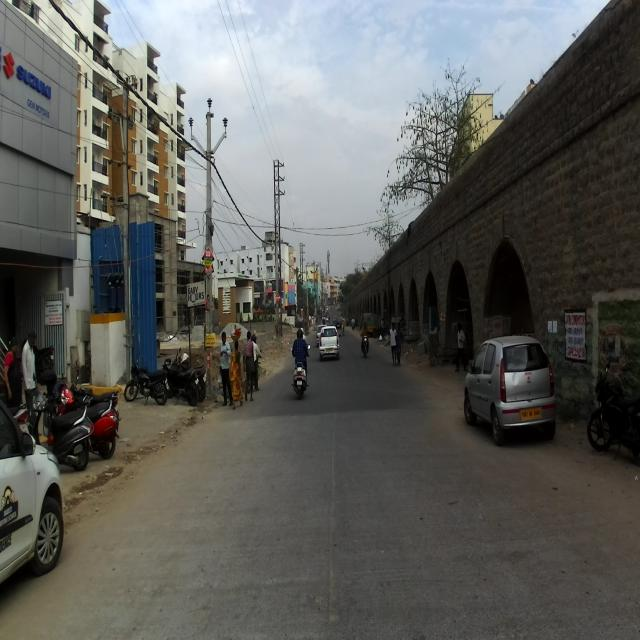car ahead at: (0, 394, 62, 608), (463, 331, 557, 448)
electric pole ahead at: (184, 90, 234, 361)
